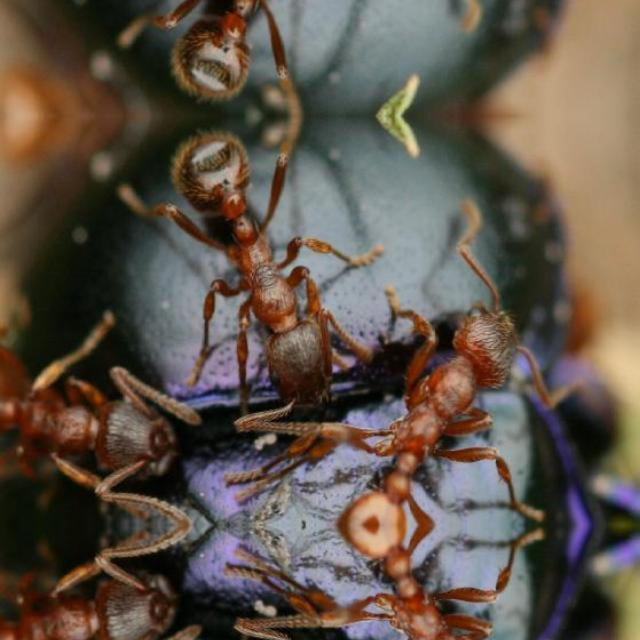Myrmica: (146, 130, 370, 406), (316, 276, 560, 524), (0, 337, 202, 509), (316, 524, 558, 640), (146, 0, 370, 98), (0, 540, 202, 640)
